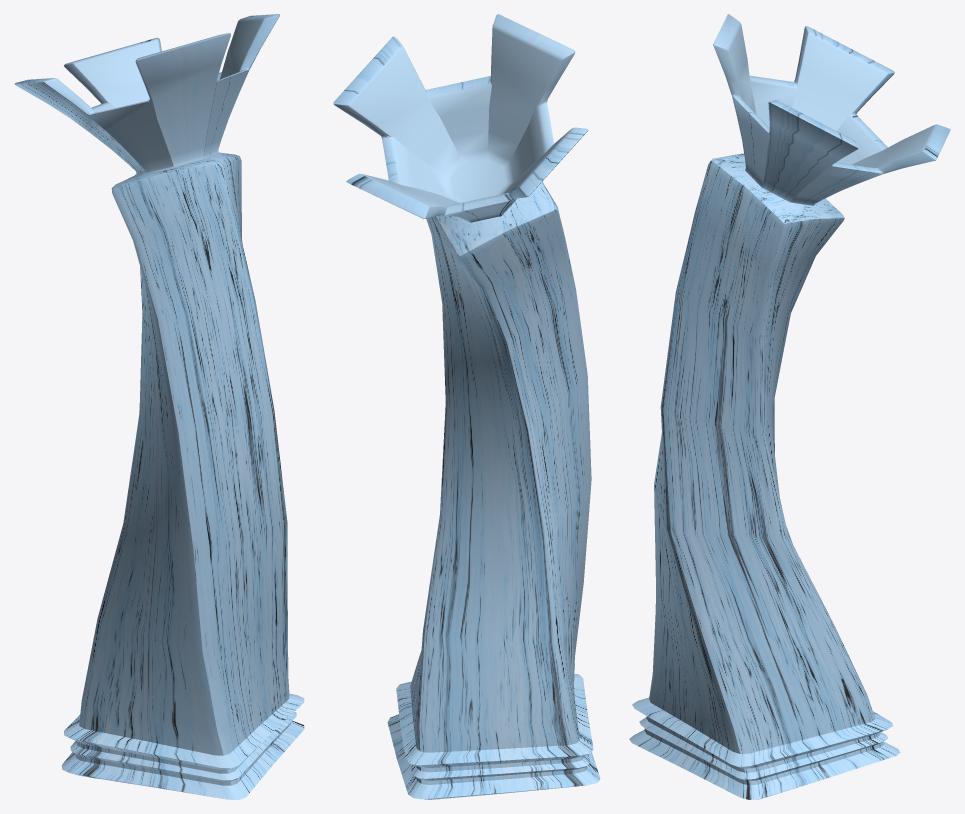
File: Rey.fbx
3 renders of one model, left to right at view 1: azimuth 30°, elevation 25°; view 2: azimuth 150°, elevation 25°; view 3: azimuth 270°, elevation 25°, orthographic. The views are drawn at different scales.
Visible parts, largest first — view 1: Rey; view 2: Rey; view 3: Rey.
Boxes of the visible parts, bbox=[...] form: Rey: bbox=[14, 14, 304, 799]; Rey: bbox=[333, 14, 600, 799]; Rey: bbox=[629, 14, 950, 799].
Size of the model in its own units: 91.95 by 276 by 112.
1 material, 1 textured.
